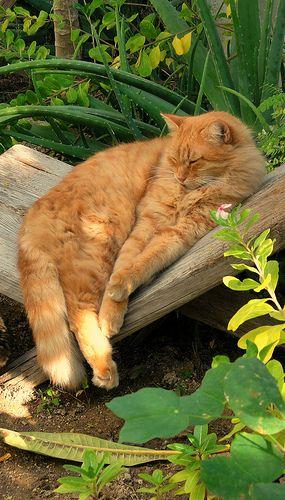kedo: (19, 112, 266, 387)
